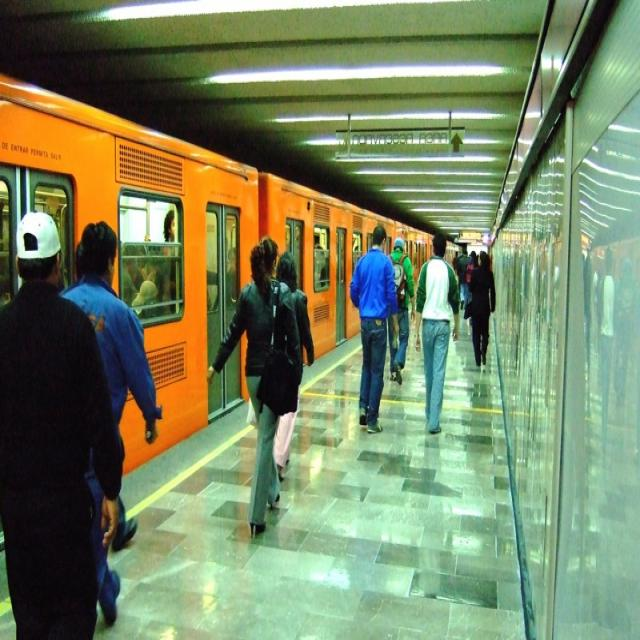body: (0, 206, 126, 638), (59, 219, 165, 629), (207, 231, 304, 539), (348, 221, 401, 435), (412, 229, 462, 435), (273, 248, 315, 482), (123, 207, 188, 317), (386, 236, 416, 386), (467, 250, 495, 368), (206, 233, 240, 315), (50, 200, 76, 288), (57, 237, 89, 299), (0, 199, 13, 303), (284, 219, 302, 288), (312, 228, 330, 293), (462, 249, 478, 312), (456, 248, 471, 308), (452, 250, 459, 276)
